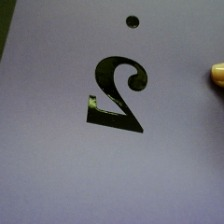violet2: (83, 12, 159, 147)
